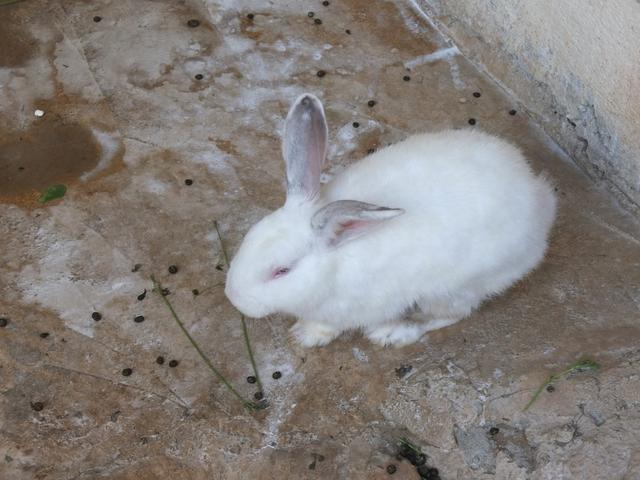rabbit: (217, 84, 589, 389)
